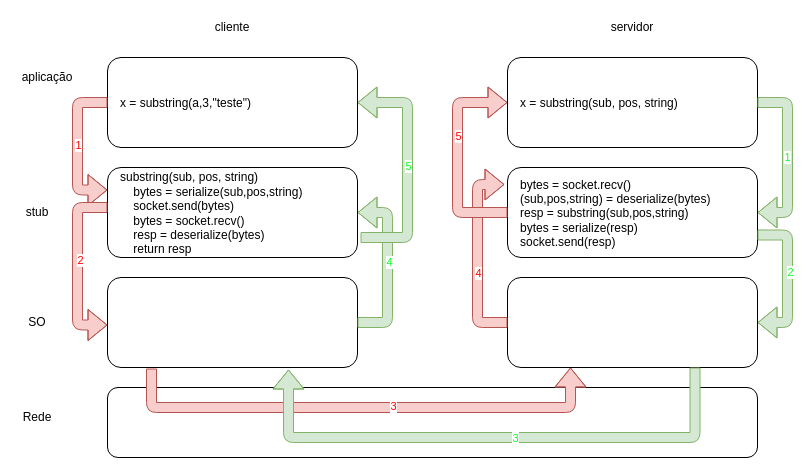
Image size: 810x475. Some labels were removed from this diagram. Here are the shapes that lost their labels. From the top down, the box of each, then its label:
(106, 276, 358, 368): socket.send(byte*) socket.rcv(byte*)
(506, 276, 758, 368): socket.rcv(byte*) socket.send(byte*)
